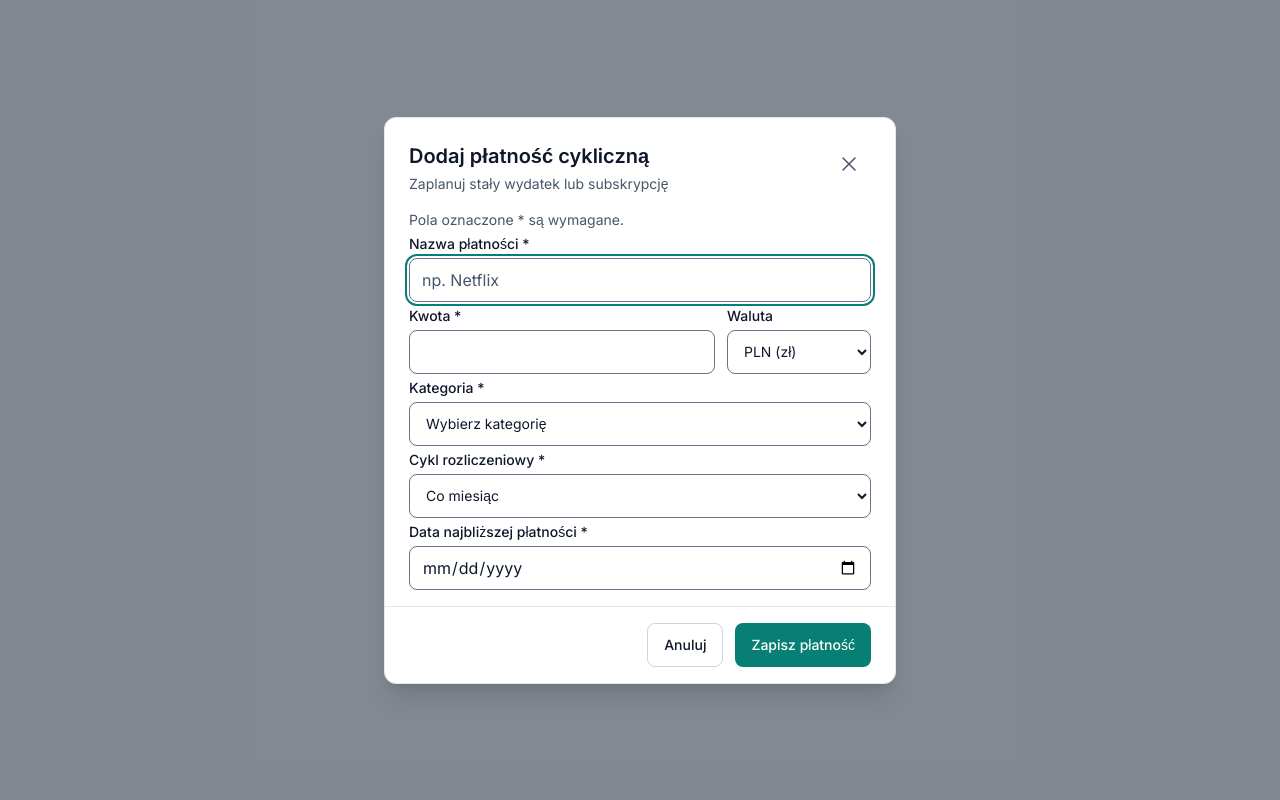
Test: RecurringPaymentDialog › shows the 400 for an income category in the dialog, not at a field
Type "Netflix" into the field labelled "Nazwa płatności *" at (640,280), box [409,258,871,302]
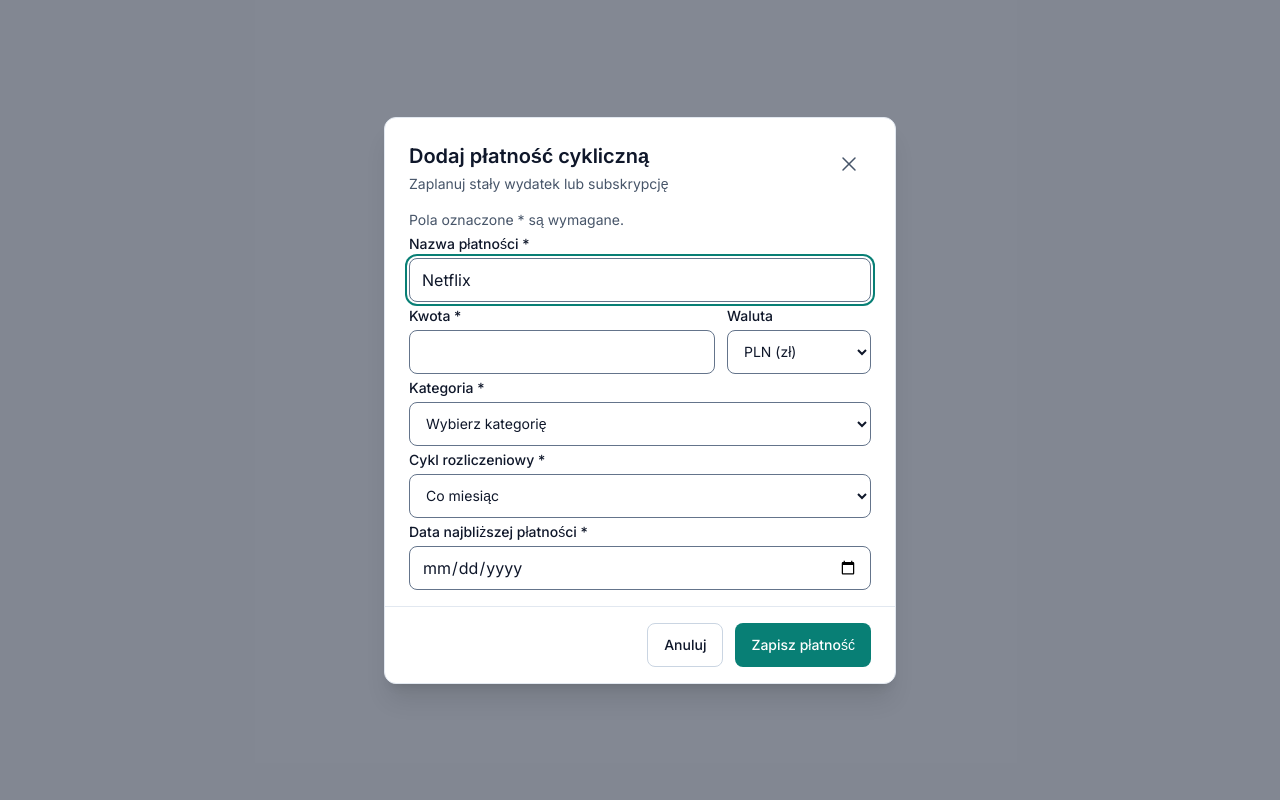
Type "43" into the field labelled "Kwota *" at (562,352), box [409,330,715,374]
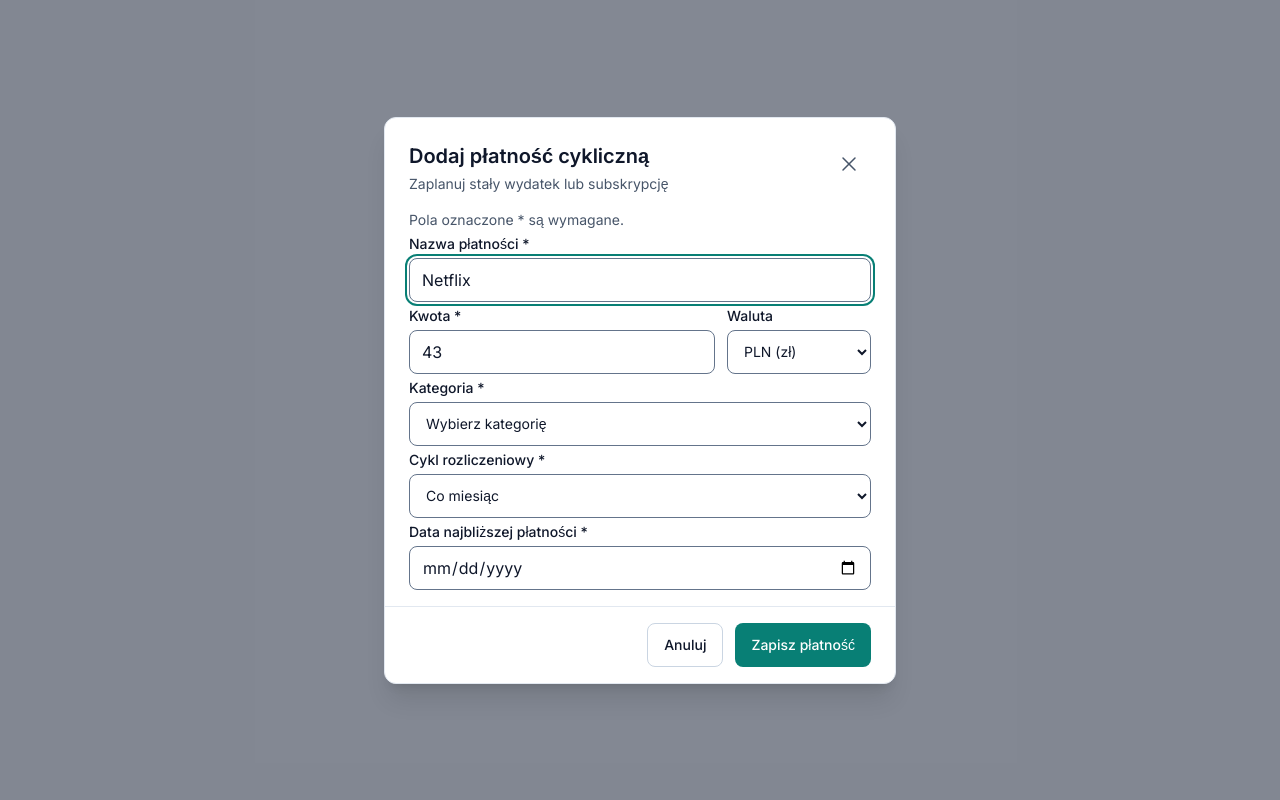
Select "Rozrywka" in the dropdown labelled "Kategoria *" at (640,424), box [409,402,871,446]
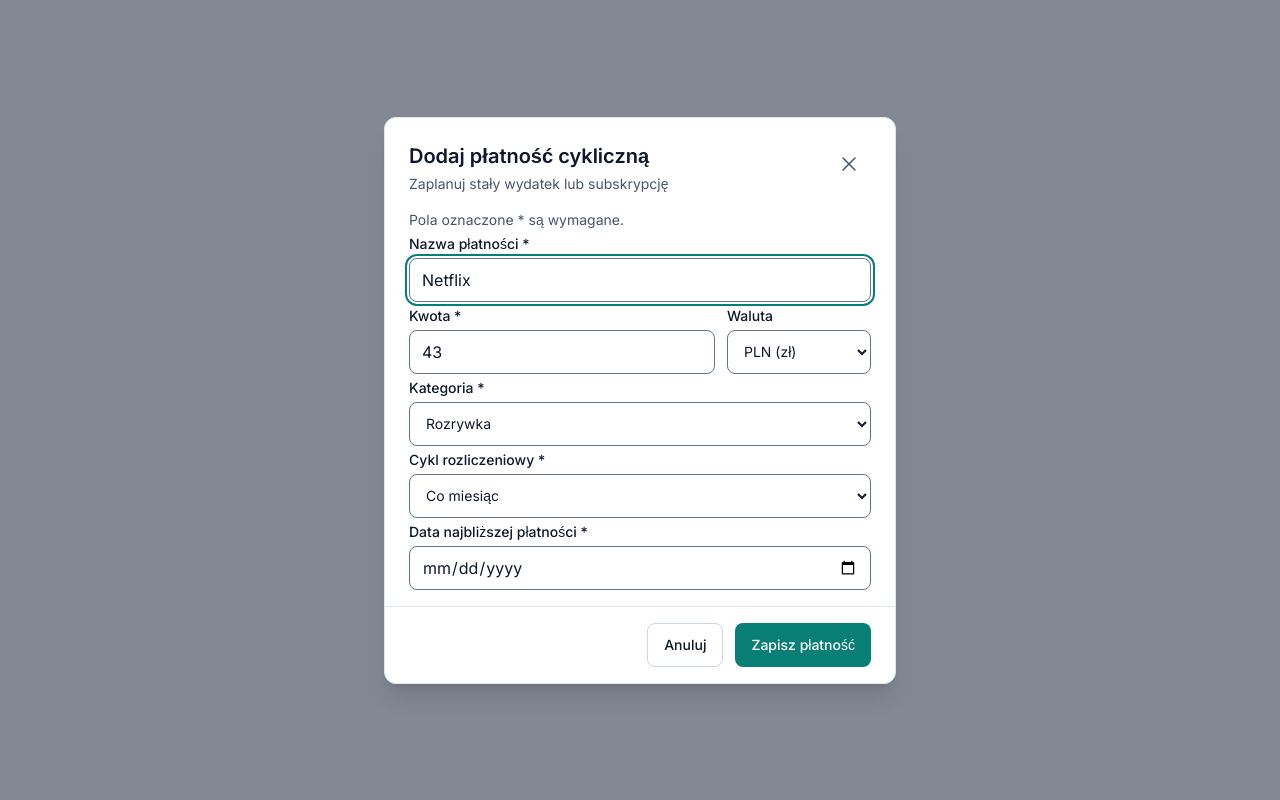
Type "2026-12-01" into the date field labelled "Data najbliższej płatności *" at (640,568), box [409,546,871,590]
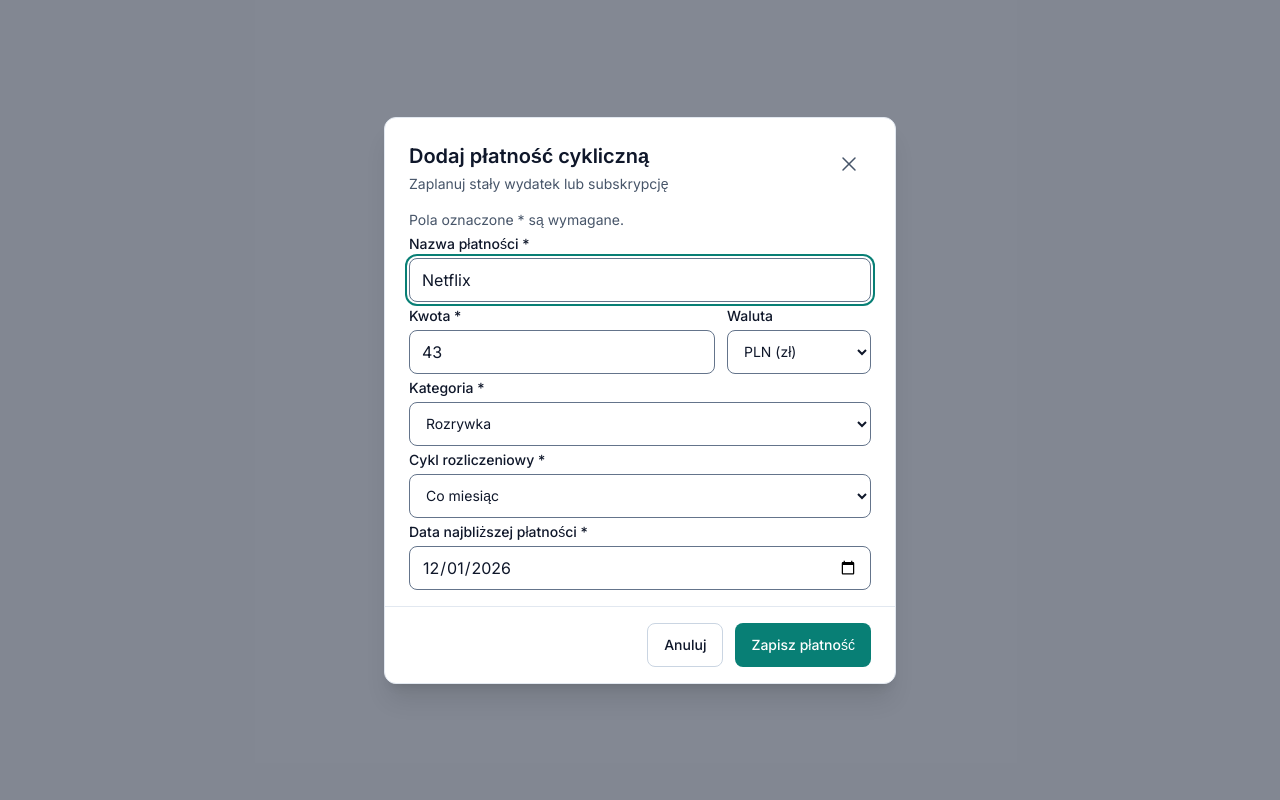
Click the button "Zapisz płatność" at (803,644), box [735,622,871,666]
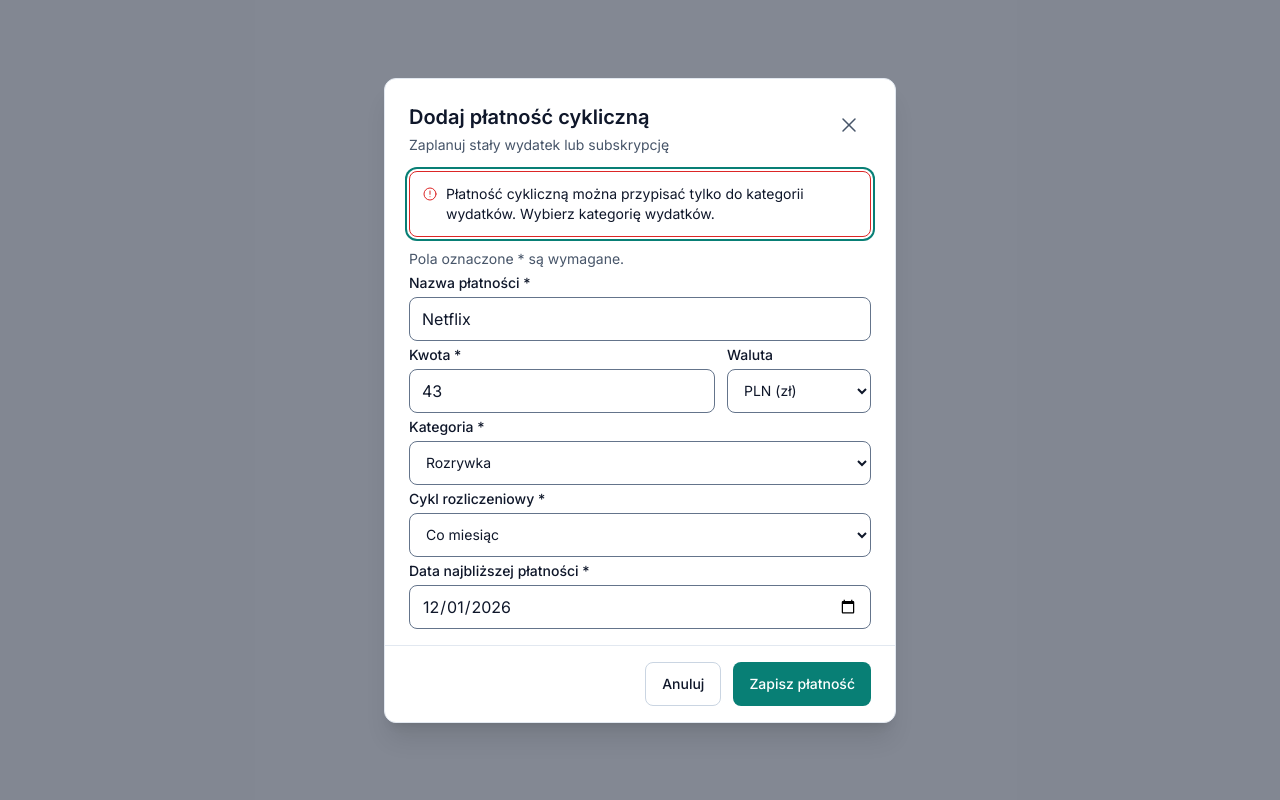
Expected: the message shows "Płatność cykliczną można przypisać tylko do kategorii wydatków. Wybierz kategorię wydatków.", [446,184,804,222]
